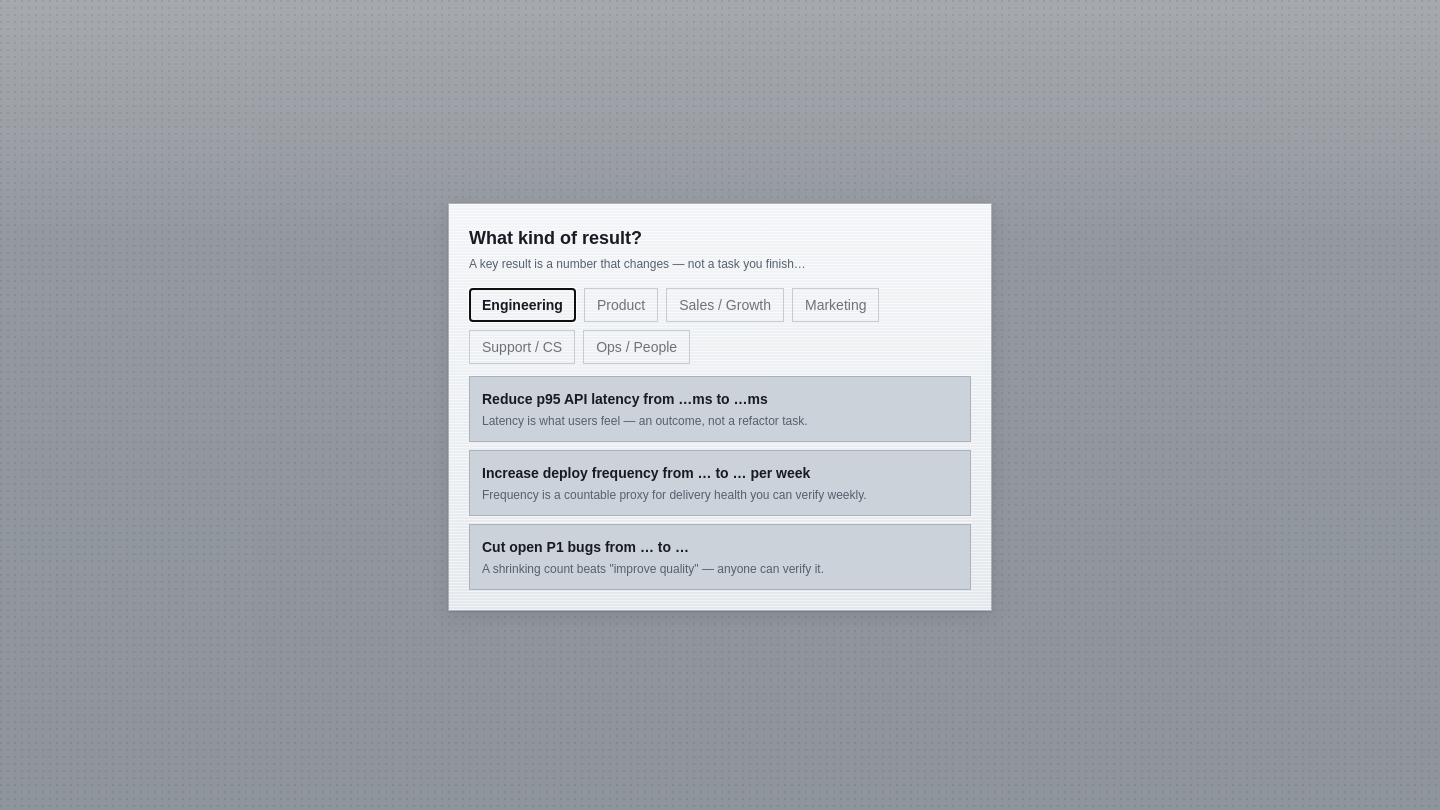
KrWizard › teaches the lesson up front and shows category templates
This screenshot has width=1440, height=810.
Expected: the text "a number that changes" is shown, [469,256,806,270]
Click the button "Product". click: (621, 304)
box: [584,288,658,322]
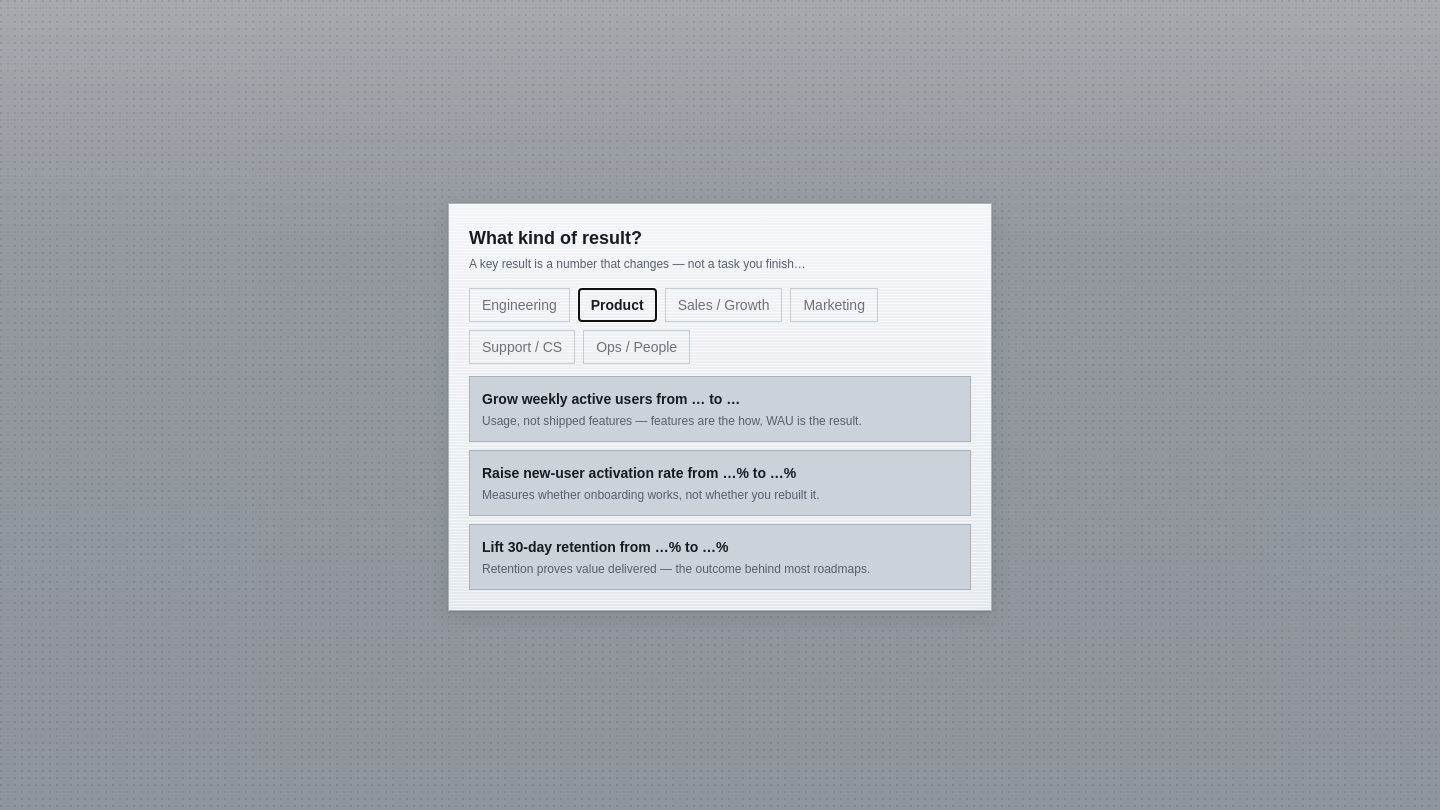
Expected: the text "Grow weekly active users from … to …" is shown, [482,390,740,406]
